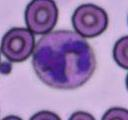N: (32, 30, 96, 88)
